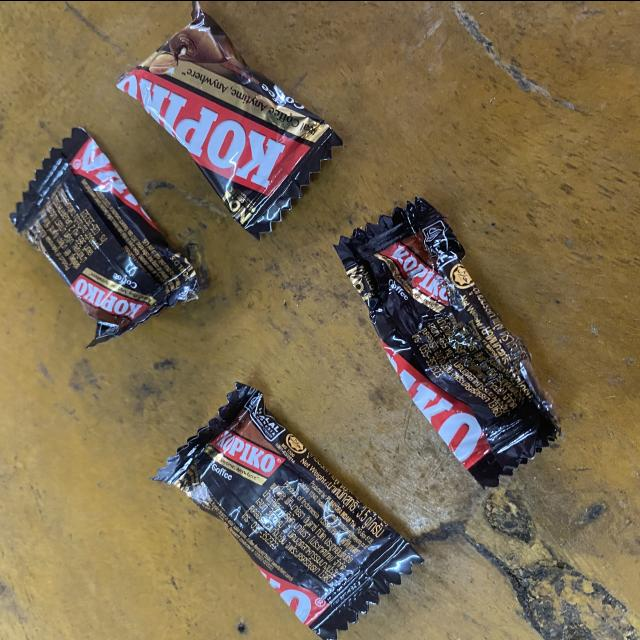plastik: (154, 383, 422, 639), (335, 198, 558, 486), (117, 0, 341, 237), (9, 127, 197, 344)
